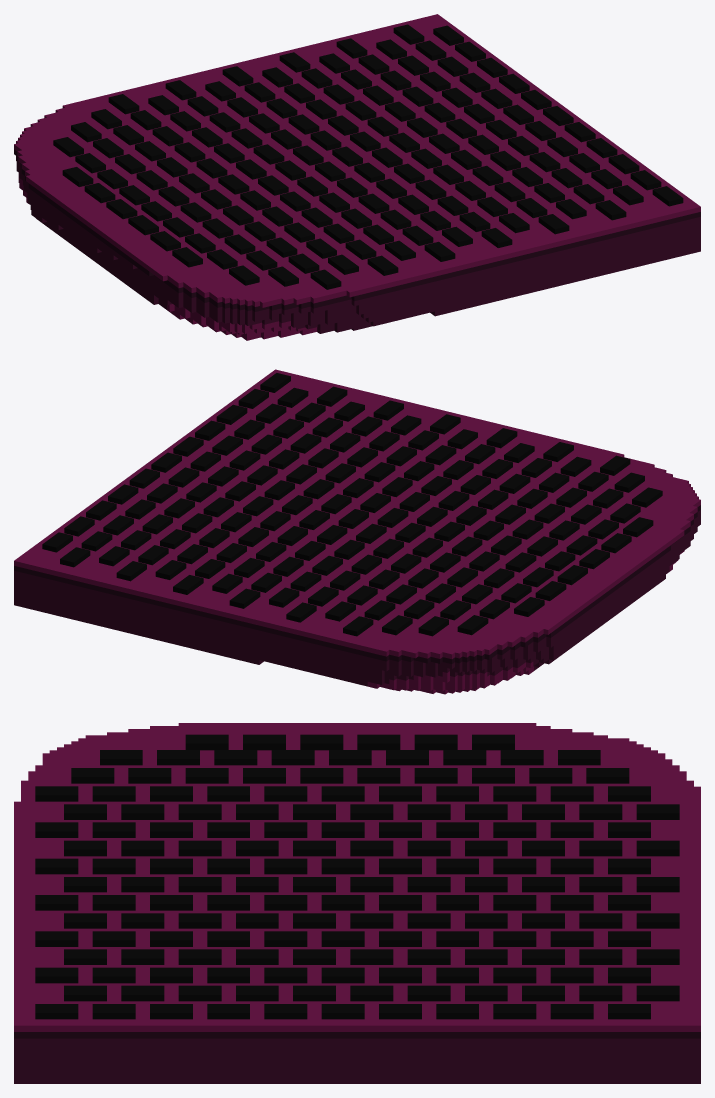
Rendered from EndCastle.obj.
The picture shows the model from 3 angles, top to bottom: view 1: azimuth 30°, elevation 25°; view 2: azimuth 150°, elevation 25°; view 3: azimuth 270°, elevation 25°; orthographic projection. The views are drawn at different scales.
Visible parts, largest first — view 1: EndCastle; view 2: EndCastle; view 3: EndCastle.
Part boxes in pixels (x1,y1,x2,y2): EndCastle: [14, 14, 700, 340]; EndCastle: [14, 369, 700, 694]; EndCastle: [14, 723, 700, 1083].
Size of the model in its own units: 100 by 10 by 96.
1 material, 1 textured.
